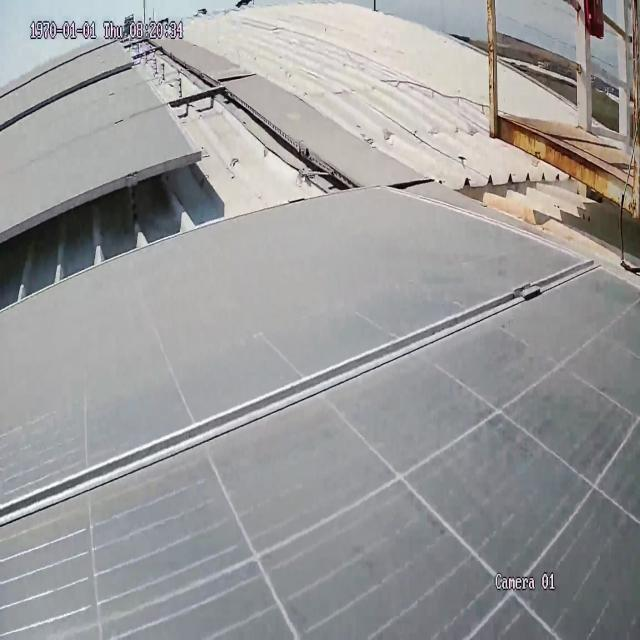interior panel: (0, 250, 614, 555)
outher panel: (0, 0, 638, 305)
